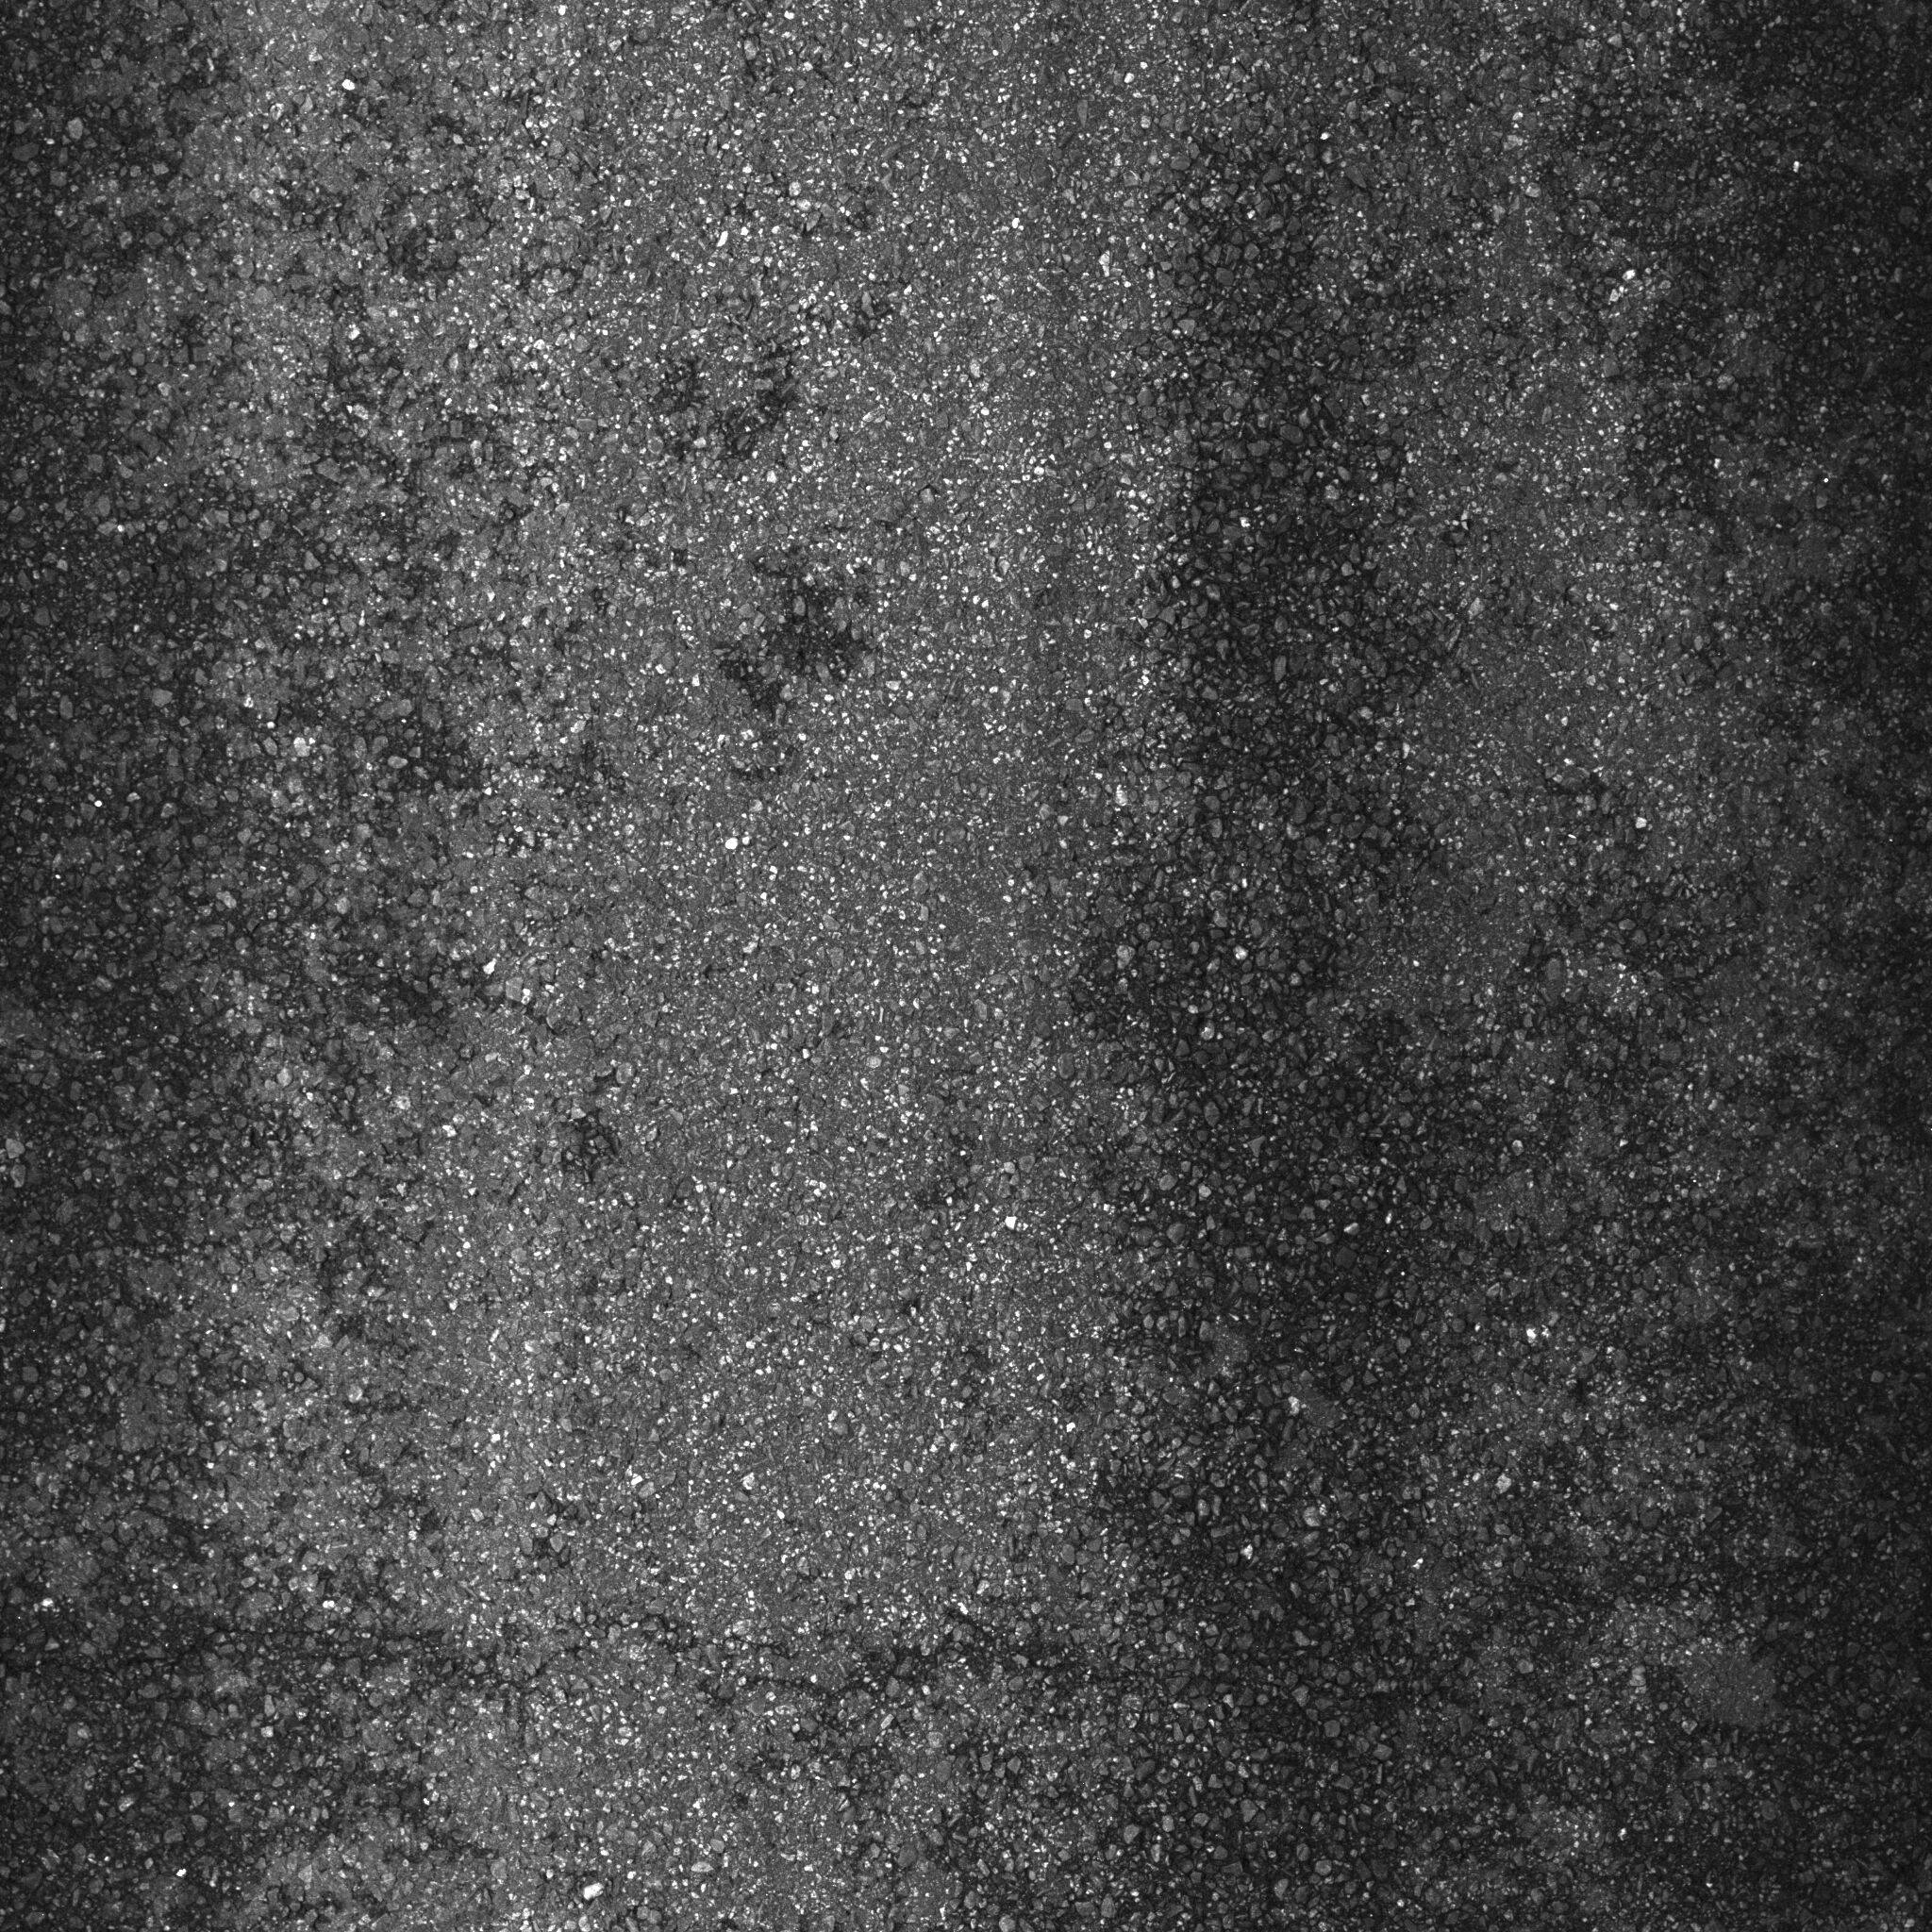transeverse: (62, 1583, 1203, 1739)
